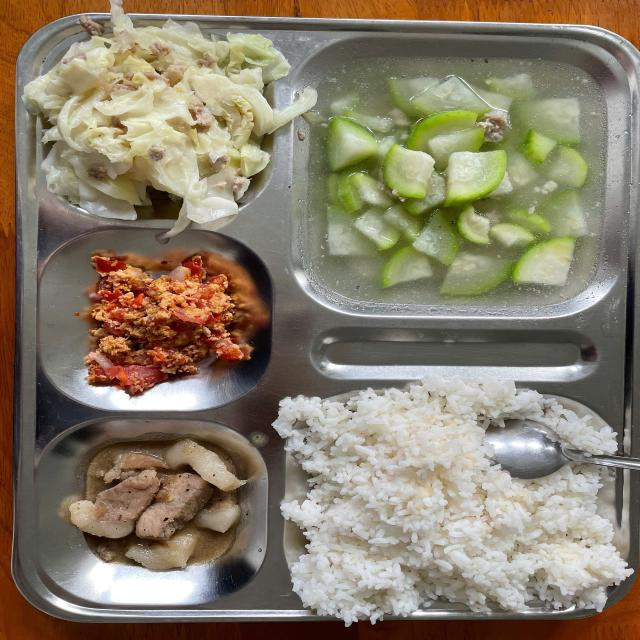cailuoc: (37, 21, 277, 223)
canhbau: (306, 46, 608, 308)
salad: (293, 394, 600, 604)
thitkhogung: (65, 440, 235, 569)
trungchien: (68, 248, 265, 403)
